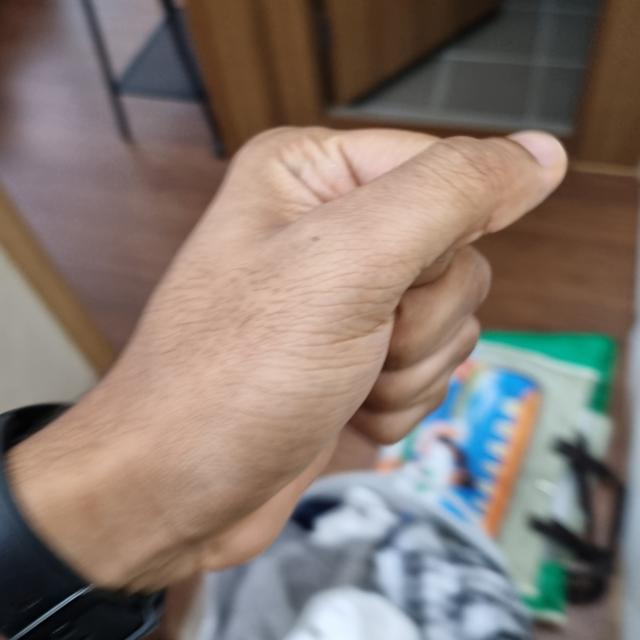Rock: (69, 119, 564, 563)
